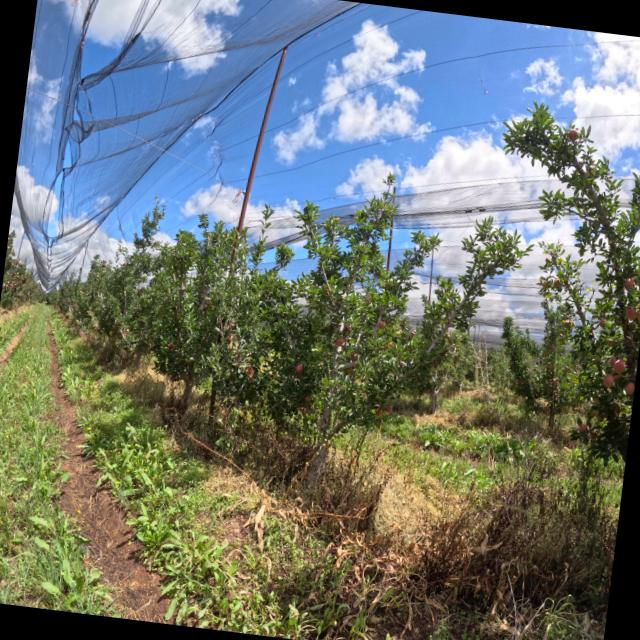-FireBlight-: (219, 316, 254, 380)
